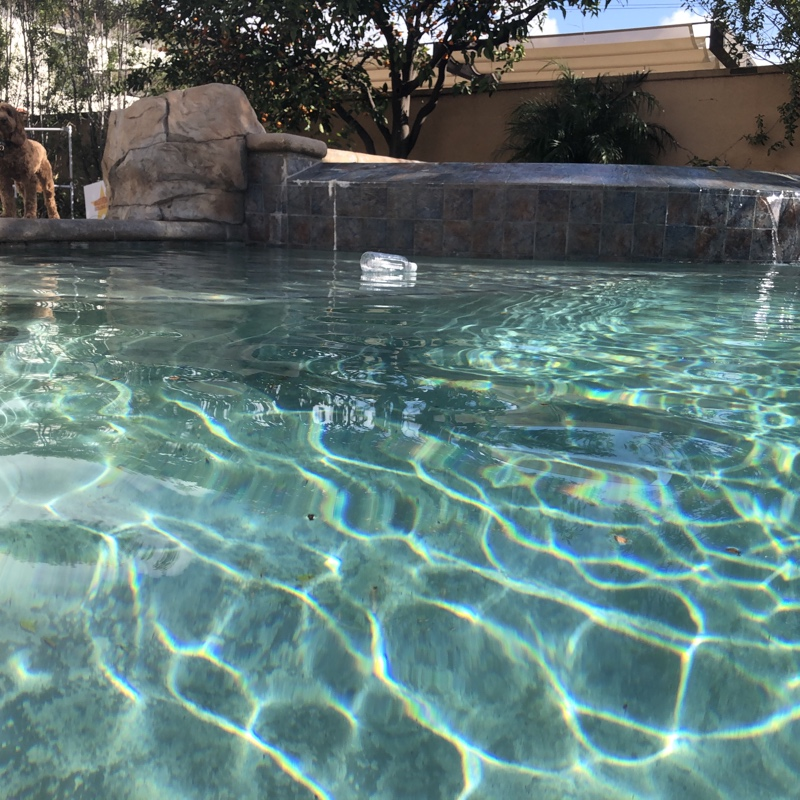Plastic Bottle: (358, 247, 420, 284)
